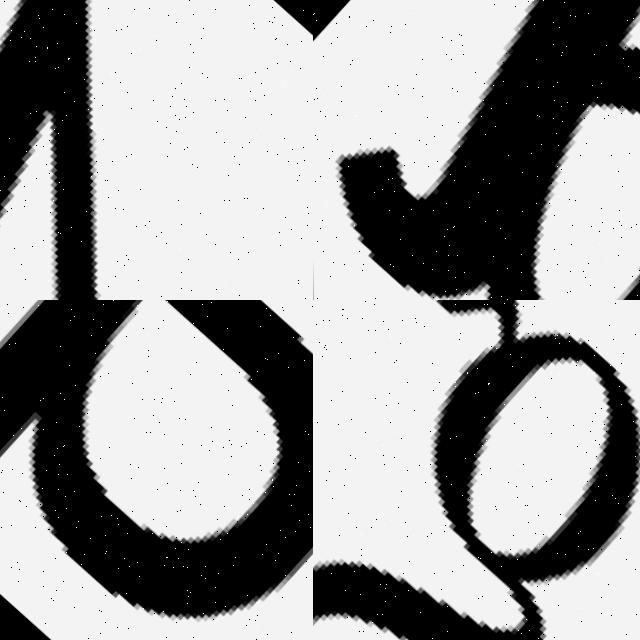A: (0, 300, 313, 640)
D: (313, 0, 640, 300)
G: (313, 300, 640, 640)
